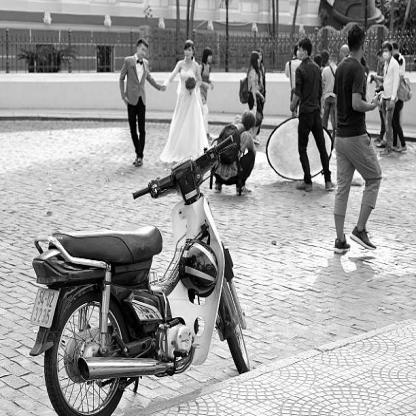Motorcycle: (26, 135, 255, 415)
